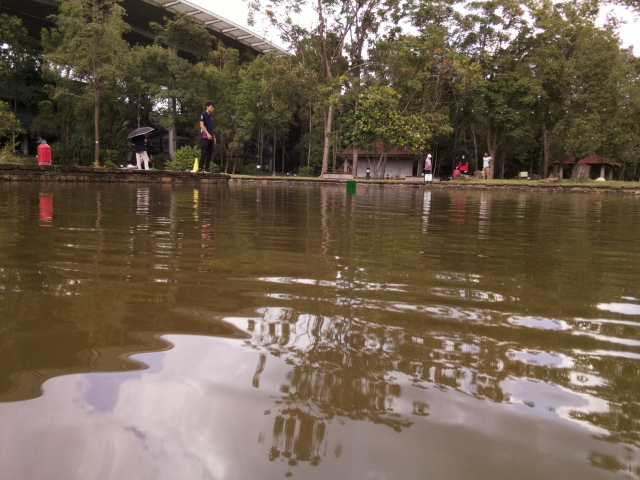checkpoint: (190, 156, 200, 173)
obstacle: (345, 180, 357, 190)
